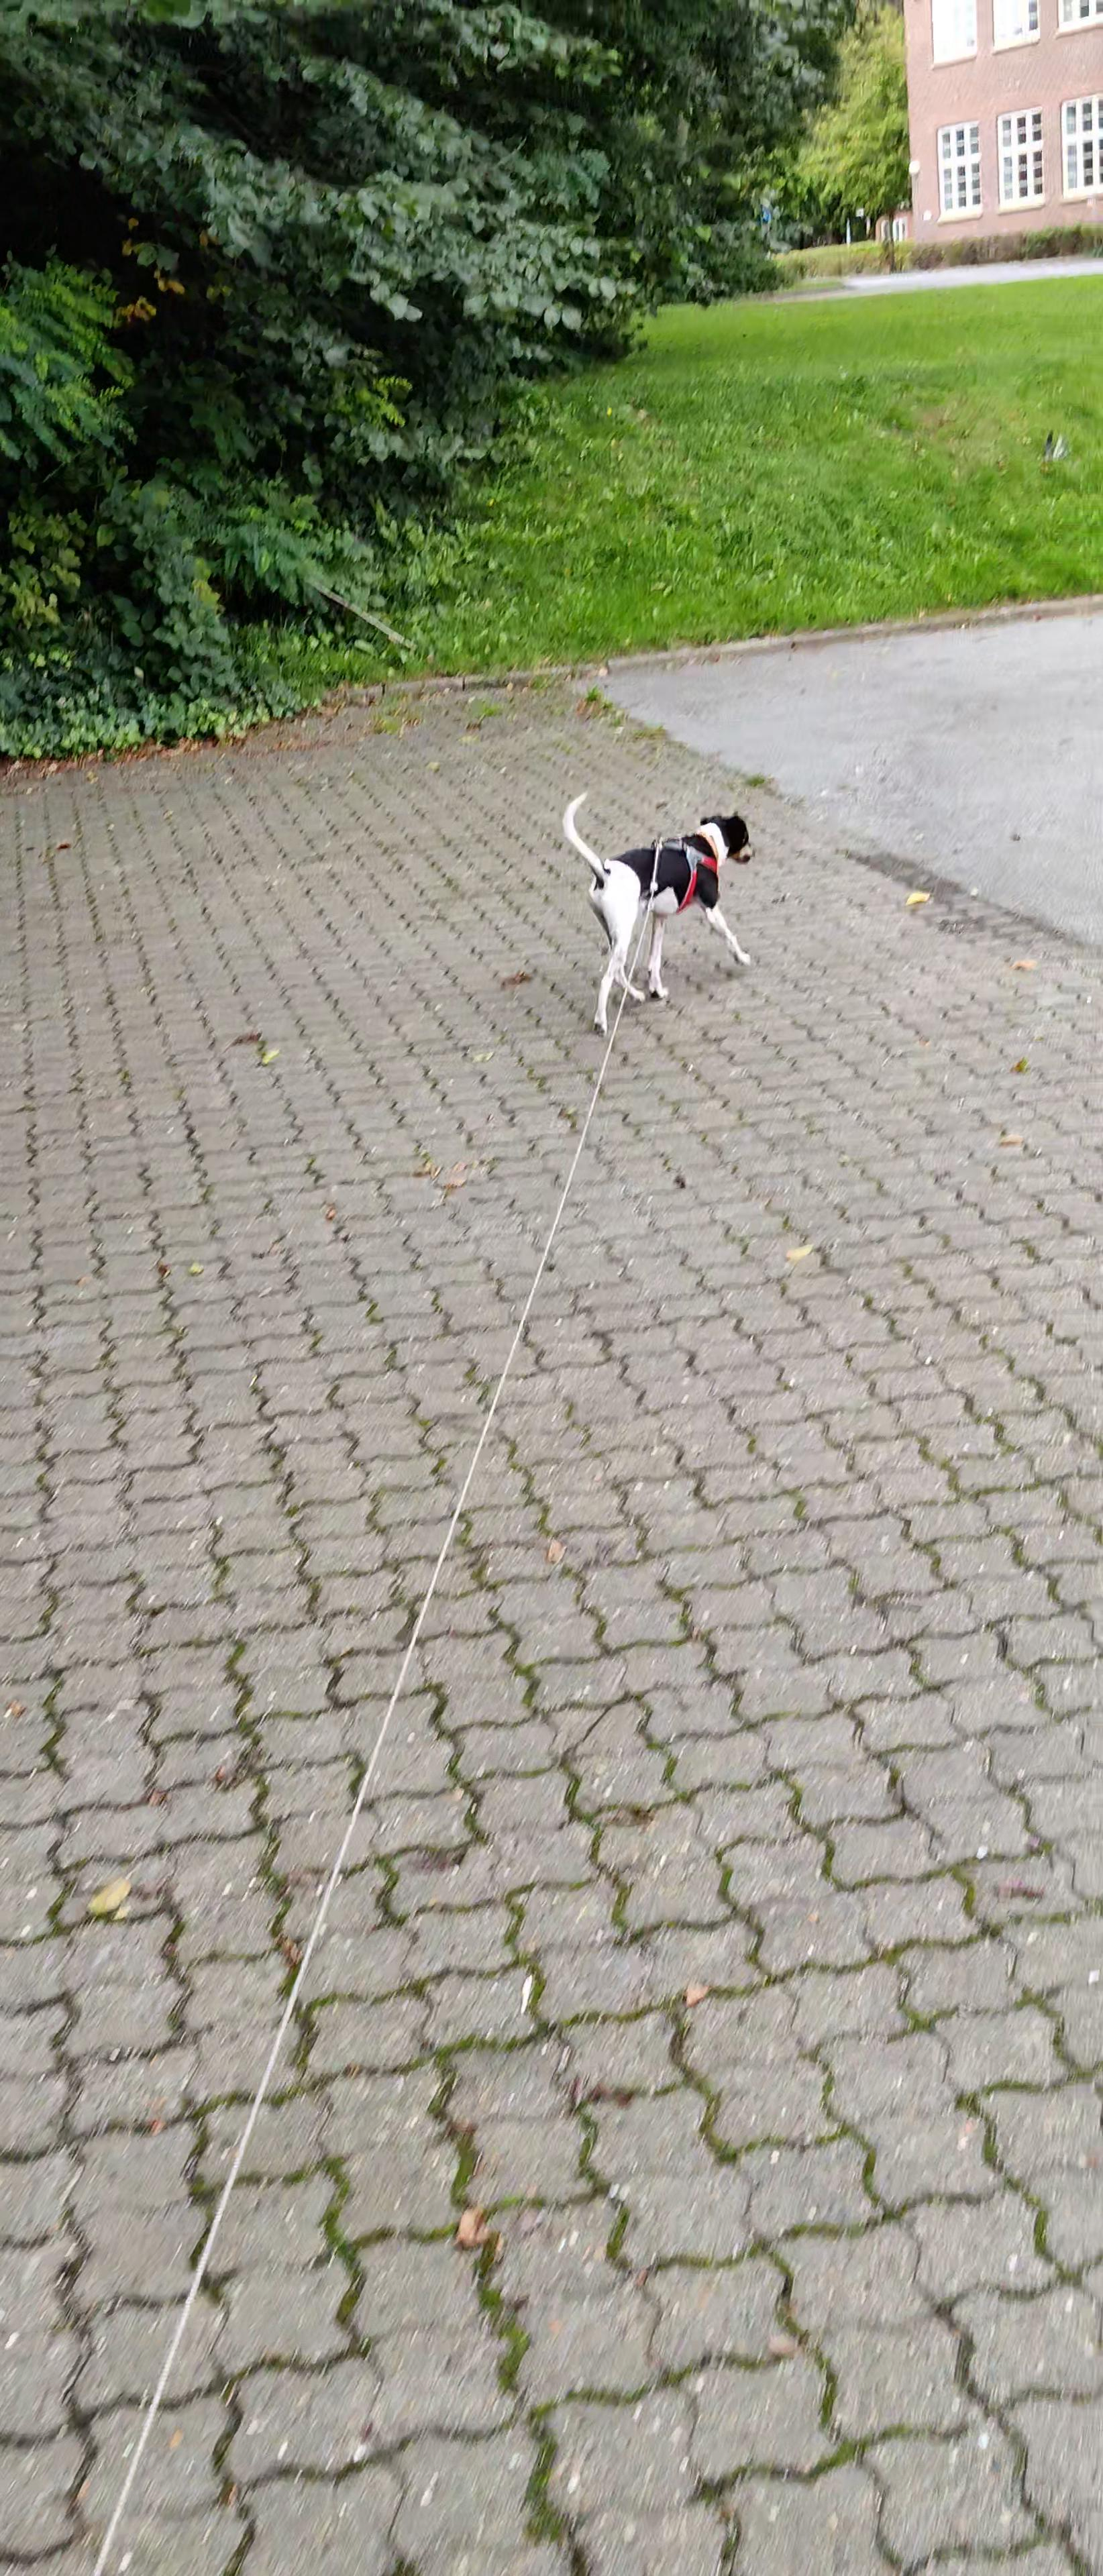Dog: (556, 787, 759, 1043)
